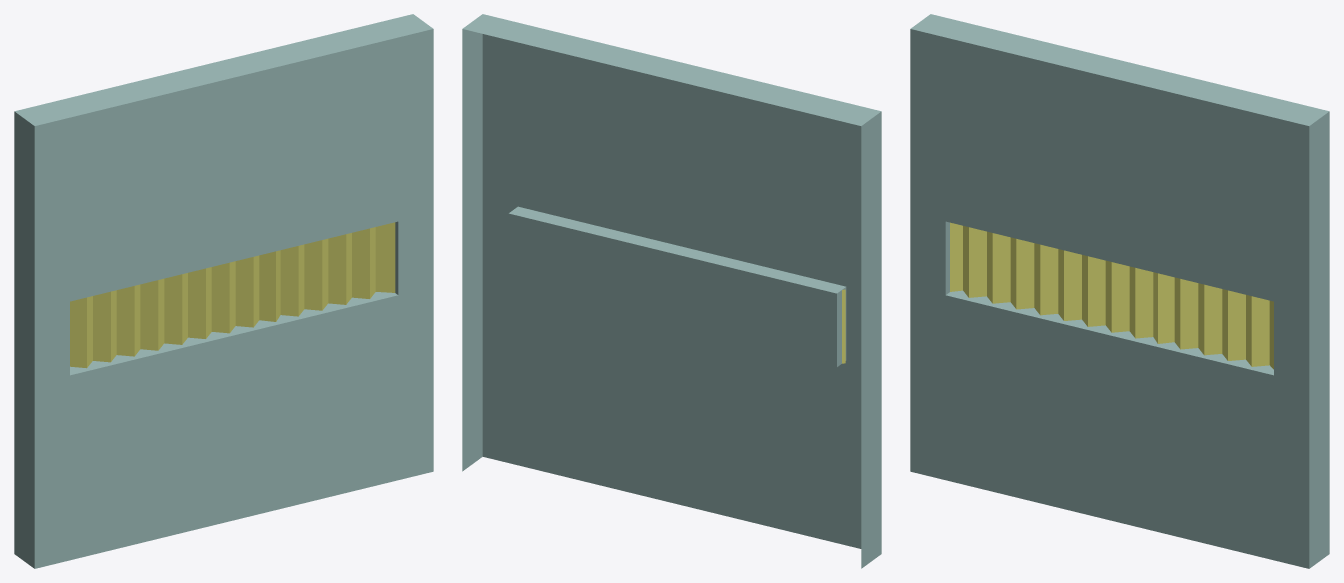
The model's file is BWallCorner.fbx.
3 renders of one model, left to right at view 1: azimuth 30°, elevation 25°; view 2: azimuth 150°, elevation 25°; view 3: azimuth 330°, elevation 25°, orthographic.
Parts seen in each view (by area): view 1: BWallCorner; view 2: BWallCorner; view 3: BWallCorner.
Boxes of the visible parts, box(x1,y1,x2,y2) form: BWallCorner: box(14, 14, 433, 568); BWallCorner: box(462, 14, 881, 568); BWallCorner: box(910, 14, 1329, 568).
Bounding box in the file's own units: 566 × 600 × 50.
